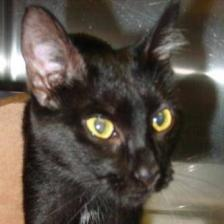cat: (18, 3, 187, 210)
